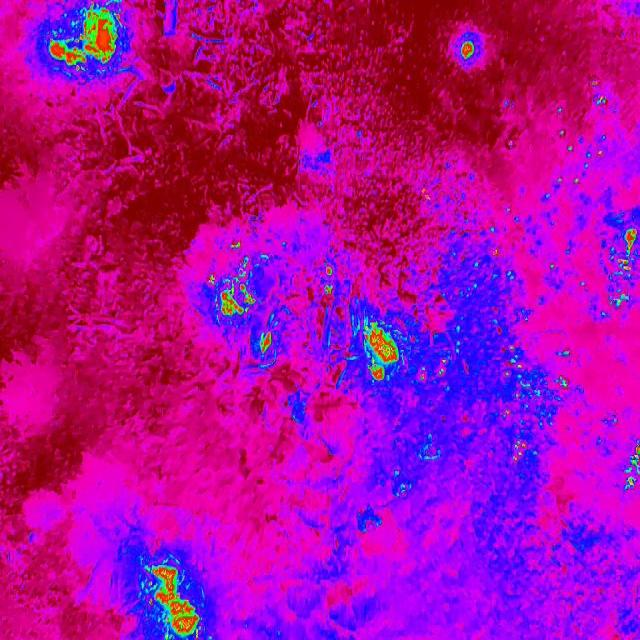fire: (416, 228, 576, 472), (504, 87, 616, 215), (46, 6, 125, 72), (146, 561, 201, 640), (204, 241, 258, 321), (603, 224, 640, 312), (360, 322, 402, 382), (622, 437, 640, 495), (252, 328, 278, 361), (319, 262, 337, 300), (458, 38, 479, 64), (554, 128, 572, 142)
